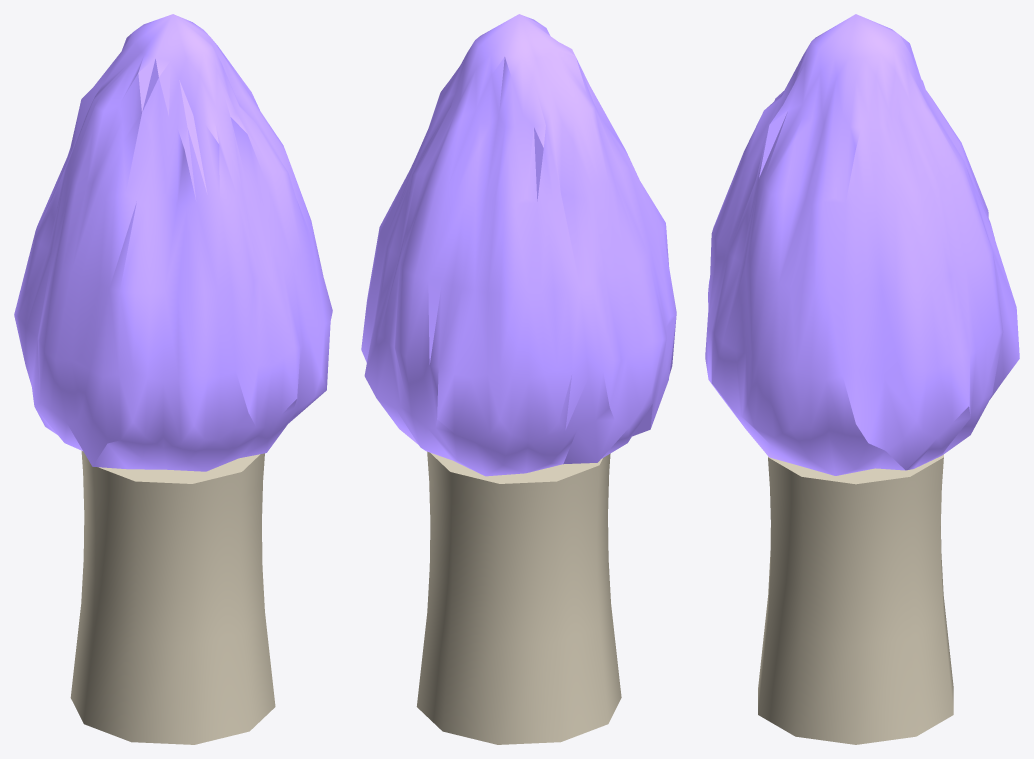
Rendered from MoonMorel.fbx.
3 views of the same model, side by side, from view 1: azimuth 30°, elevation 25°; view 2: azimuth 150°, elevation 25°; view 3: azimuth 270°, elevation 25° (orthographic).
Parts seen in each view (by area): view 1: Handle, Stem; view 2: Handle, Stem; view 3: Handle, Stem.
Part boxes in pixels (bbox=[...]): Handle: bbox=[14, 14, 332, 471]; Stem: bbox=[70, 451, 275, 744]; Handle: bbox=[361, 14, 676, 476]; Stem: bbox=[416, 451, 621, 744]; Handle: bbox=[705, 14, 1019, 475]; Stem: bbox=[758, 454, 953, 744].
Bounding box in the file's own units: 0.6085 × 1.48 × 0.6119.
